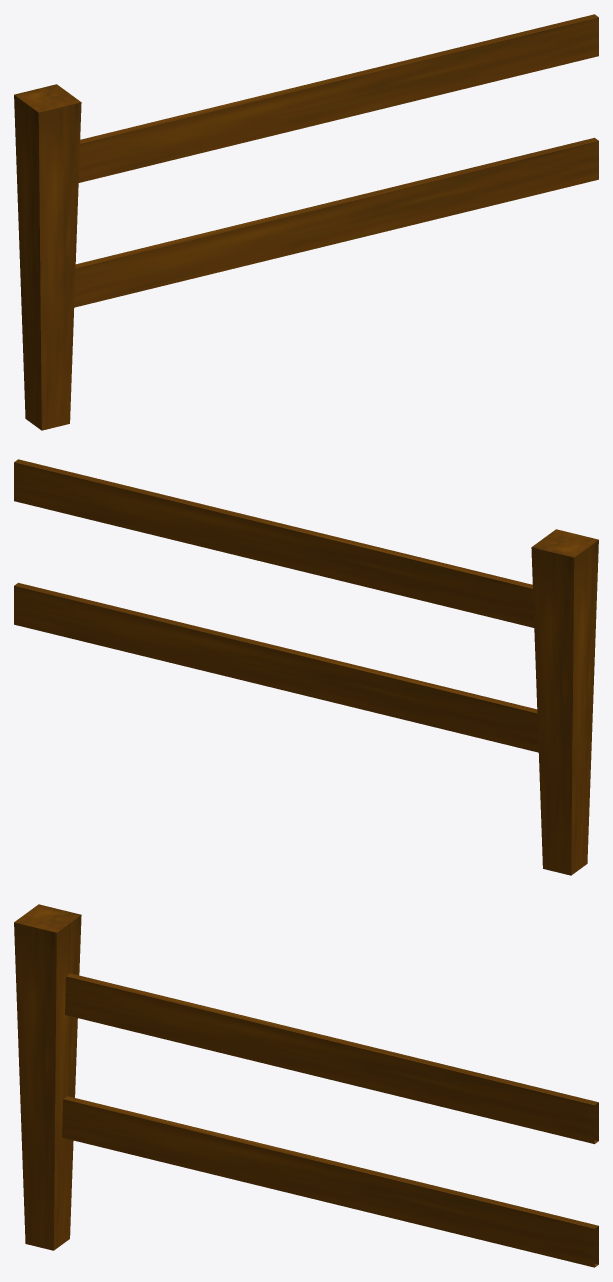
Rendered from fence2_Model.FBX.
3 renders of one model, top to bottom at view 1: azimuth 30°, elevation 25°; view 2: azimuth 150°, elevation 25°; view 3: azimuth 330°, elevation 25°, orthographic.
Parts seen in each view (by area): view 1: Box001; view 2: Box001; view 3: Box001.
Part boxes in pixels (box(x1,y1,x2,y2)): Box001: box(14, 14, 598, 430); Box001: box(14, 459, 598, 875); Box001: box(14, 904, 598, 1267).
Size of the model in its own units: 23.63 by 12.78 by 1.77.
1 material, 1 textured.
